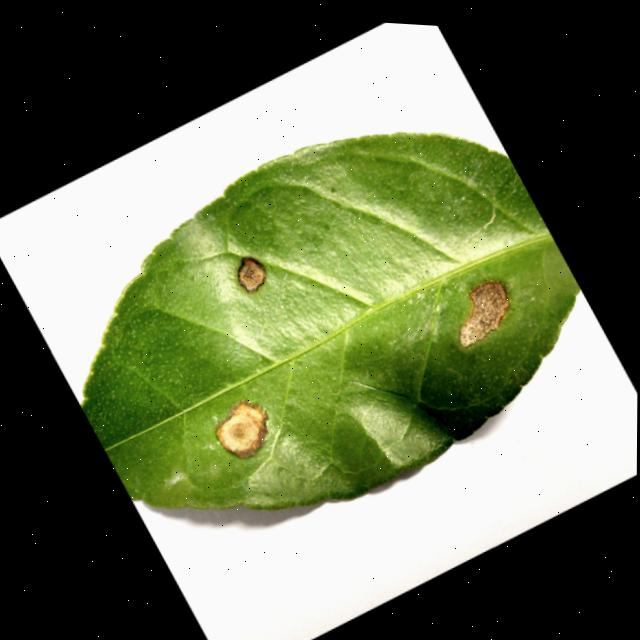antracnose: (81, 133, 578, 509), (459, 281, 509, 347), (216, 401, 266, 457), (238, 258, 265, 291)
